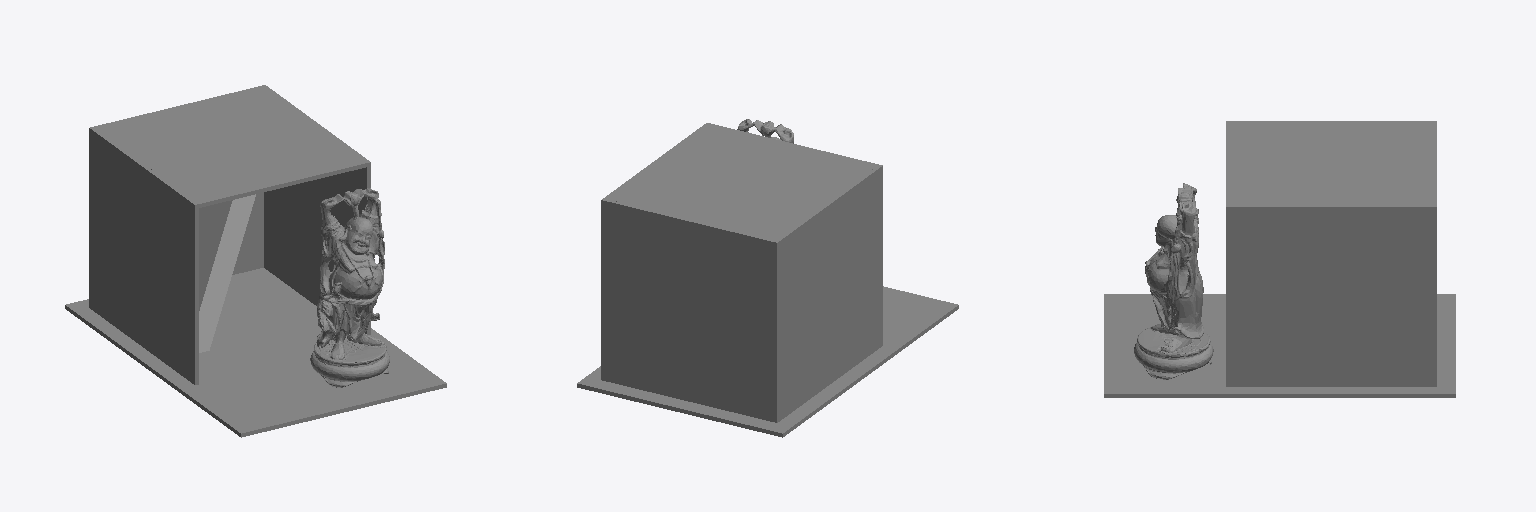
Rendered from cornellBox3wall.obj.
3 renders of one model, left to right at view 1: azimuth 30°, elevation 25°; view 2: azimuth 150°, elevation 25°; view 3: azimuth 270°, elevation 25°, orthographic.
Visible parts, largest first — view 1: Box007; view 2: Box007; view 3: Box007.
Part boxes in pixels (x1,y1,x2,y2): Box007: (65,85,446,437); Box007: (577,119,958,437); Box007: (1104,121,1455,397).
Bounding box in the file's own units: 5.28 × 4.52 × 7.82.